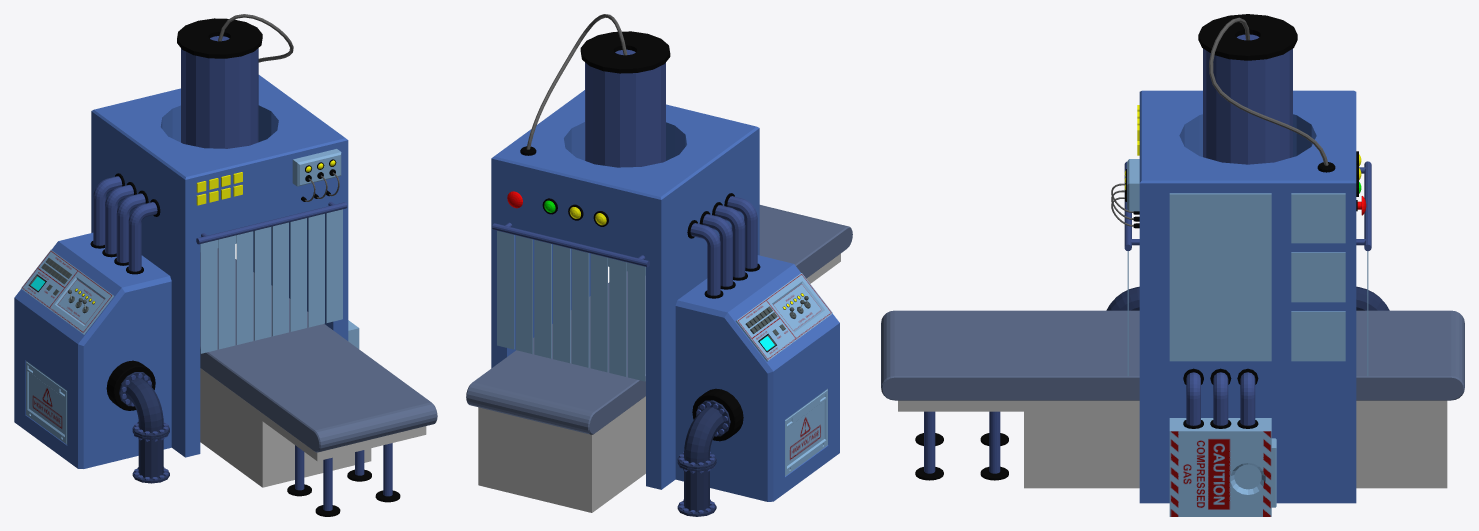
The model's file is M1_Style_B_Light.fbx.
The picture shows the model from 3 angles, left to right: view 1: azimuth 30°, elevation 25°; view 2: azimuth 150°, elevation 25°; view 3: azimuth 270°, elevation 25°; orthographic projection. The views are drawn at different scales.
Parts seen in each view (by area): view 1: M1; view 2: M1; view 3: M1.
Part boxes in pixels (x1,y1,x2,y2): M1: (14, 14, 437, 516); M1: (466, 14, 852, 516); M1: (881, 14, 1464, 516).
Bounding box in the file's own units: 343 × 457 × 538.
